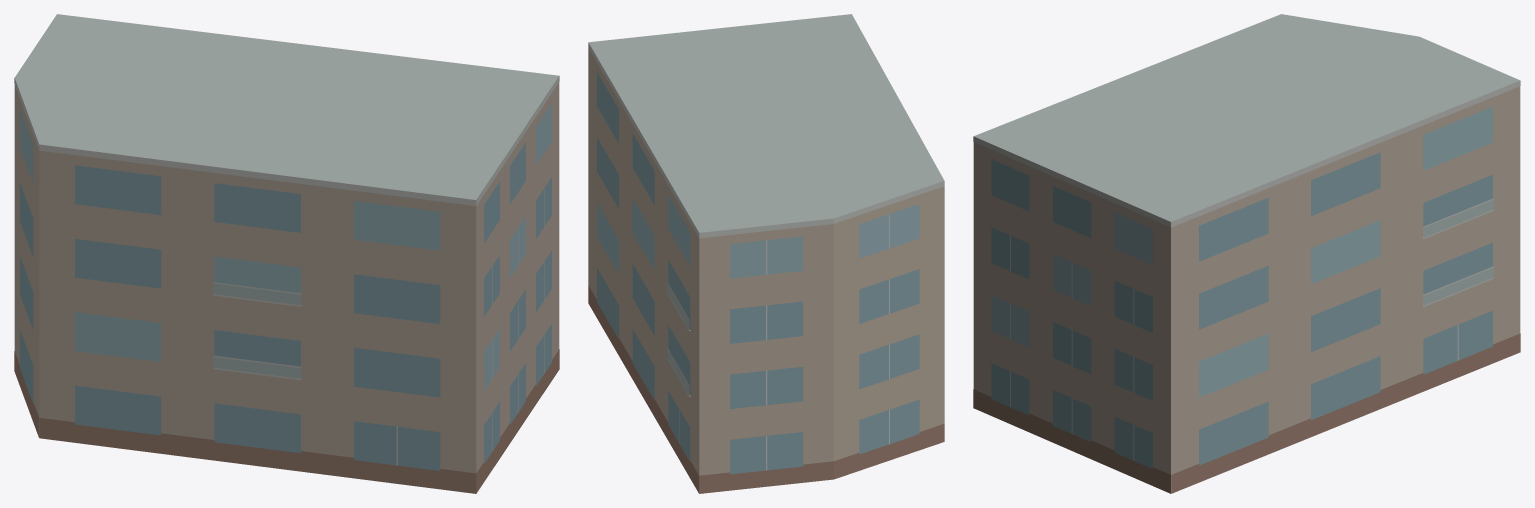
The model's file is survey-upis-32713019.glb.
3 renders of one model, left to right at view 1: azimuth 30°, elevation 25°; view 2: azimuth 150°, elevation 25°; view 3: azimuth 270°, elevation 25°, orthographic. The views are drawn at different scales.
Parts seen in each view (by area): view 1: survey-upis-32713019.tmp; view 2: survey-upis-32713019.tmp; view 3: survey-upis-32713019.tmp.
Boxes of the visible parts, x1,y1,x2,y2 form: survey-upis-32713019.tmp: (14, 14, 559, 493); survey-upis-32713019.tmp: (588, 14, 944, 493); survey-upis-32713019.tmp: (973, 14, 1520, 493).
Bounding box in the file's own units: 19.37 × 11.8 × 21.52.
